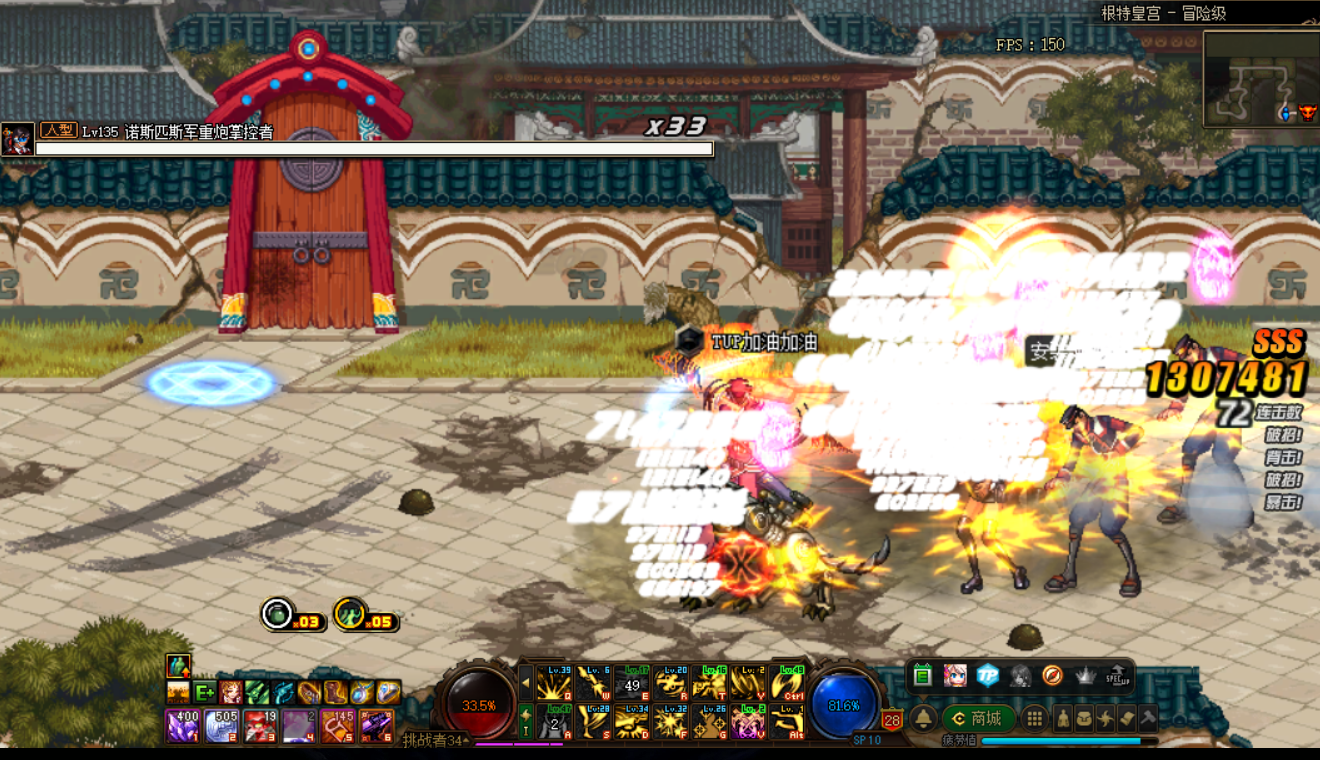monster: (679, 470, 900, 638), (904, 407, 1034, 601), (1053, 382, 1149, 606), (1162, 324, 1257, 534)
warrior: (657, 350, 834, 551)
